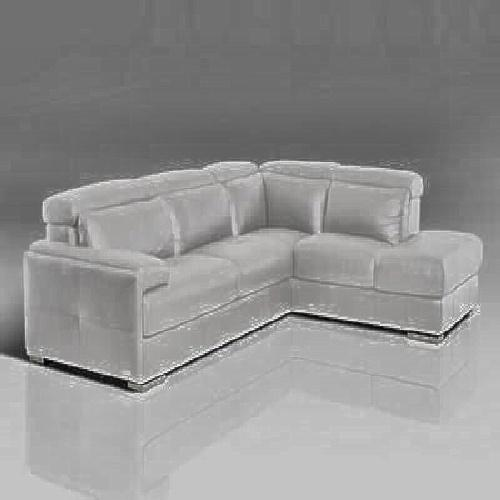sofa: (49, 168, 472, 380)
